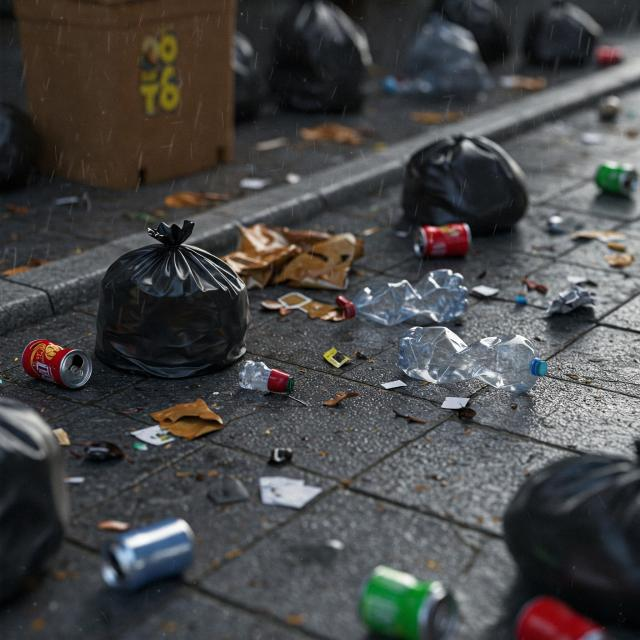aluminum: (351, 563, 460, 636), (91, 518, 198, 588), (19, 339, 95, 390), (414, 222, 472, 262), (595, 159, 637, 196)
paper: (153, 402, 227, 438)
plastic: (397, 325, 548, 395), (341, 266, 472, 331)
